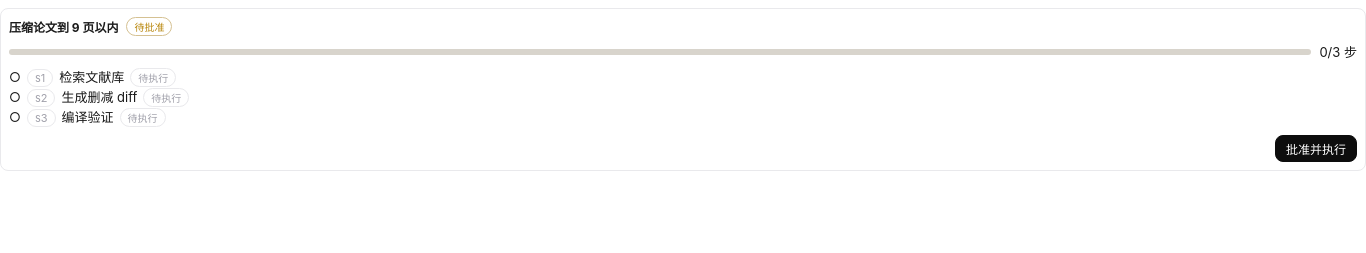
Test: PlanCard · 按钮回调与展开 › 无产出步骤展开显示「（暂无产出）」占位；aria-expanded 随展开翻转
The image size is (1366, 253).
Click the button with class "sf-plan-step-head" showing "○ s2 生成删减 diff 待执行" at (99, 97), box [9,87,1357,107]
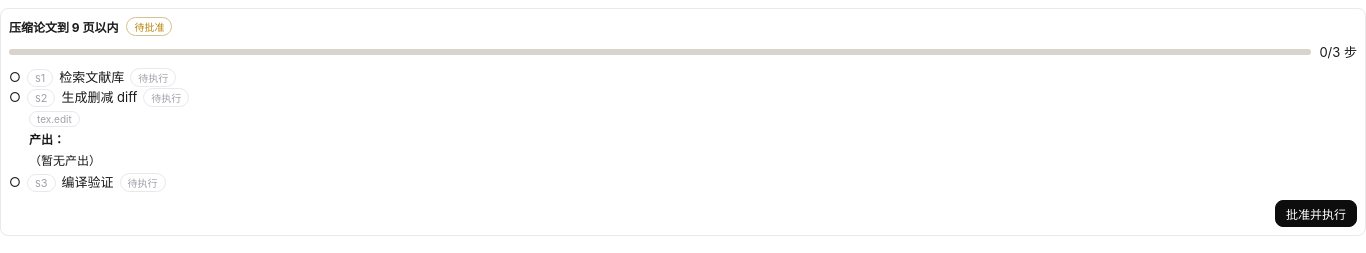
Now the list item "○ s2 生成删减 diff 待执行 tex.edit 产出： （暂无产出）" is shown, box [9,87,1357,168]
